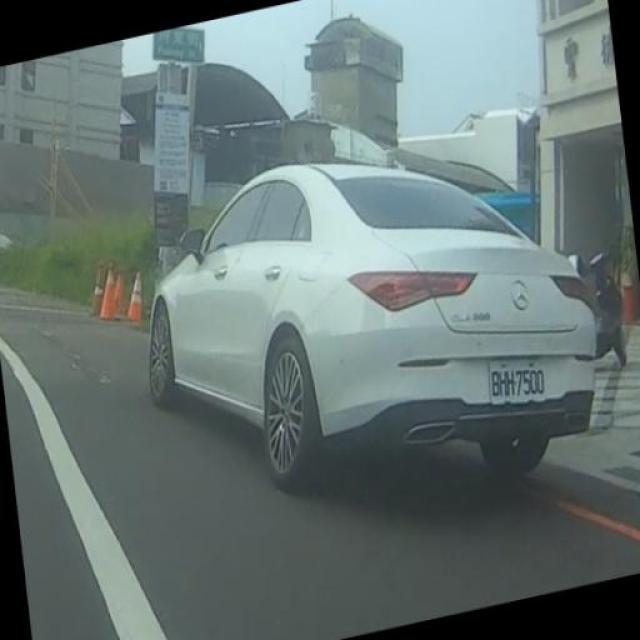Legalparking: (131, 115, 640, 513)
